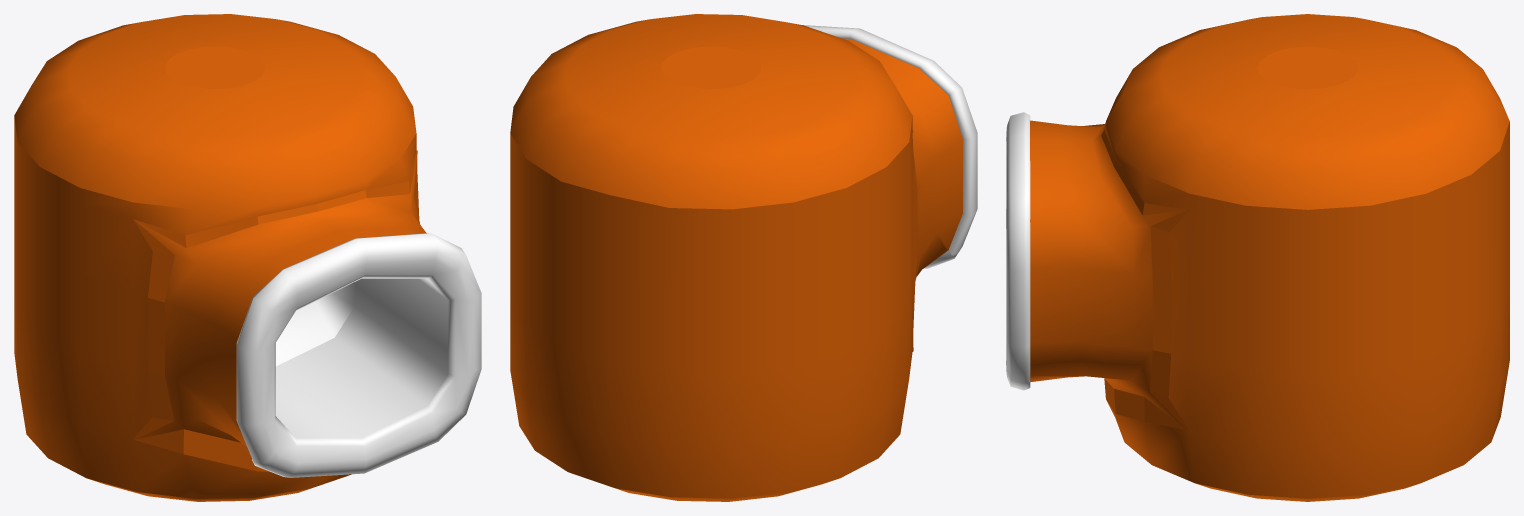
Rendered from TurretEnemy.fbx.
3 renders of one model, left to right at view 1: azimuth 30°, elevation 25°; view 2: azimuth 150°, elevation 25°; view 3: azimuth 270°, elevation 25°, orthographic.
Parts seen in each view (by area): view 1: polySurface7, polySurface8; view 2: polySurface7, polySurface8; view 3: polySurface7, polySurface8.
Boxes of the visible parts, x1,y1,x2,y2 form: polySurface7: (14, 14, 426, 501); polySurface8: (236, 233, 481, 477); polySurface7: (510, 14, 962, 501); polySurface8: (803, 25, 977, 268); polySurface7: (1030, 14, 1509, 501); polySurface8: (1006, 112, 1030, 390).
Bounding box in the file's own units: 0.9617 × 0.9806 × 1.2.
